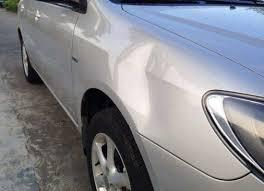fender-dent: (75, 16, 173, 161)
